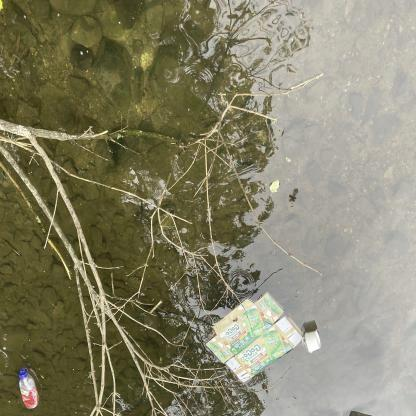Plastic: (18, 366, 40, 410), (304, 330, 322, 355)
